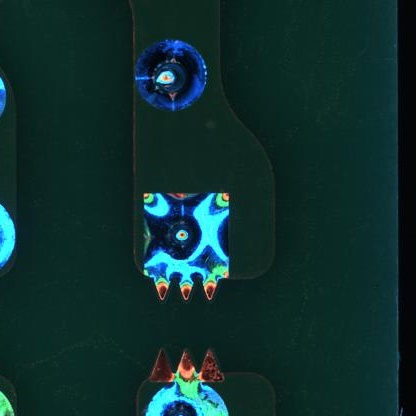spot: (141, 191, 231, 280), (134, 38, 207, 112), (139, 378, 231, 416)
